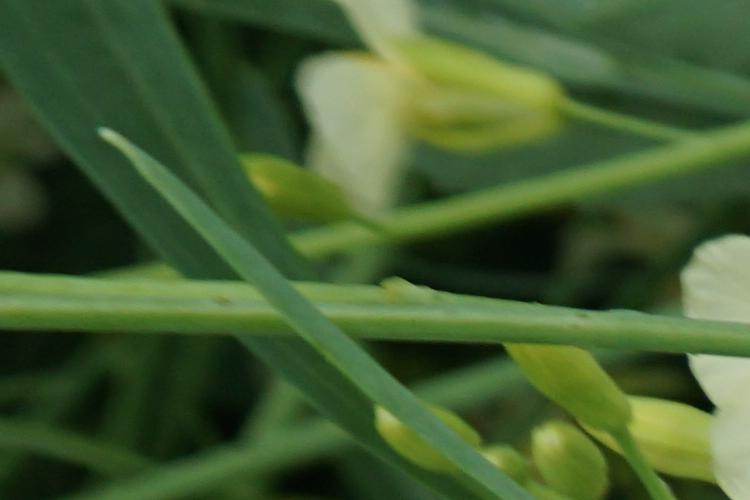bud: (491, 308, 643, 430), (576, 374, 737, 476), (223, 148, 362, 230), (370, 385, 488, 478), (520, 413, 613, 498)
